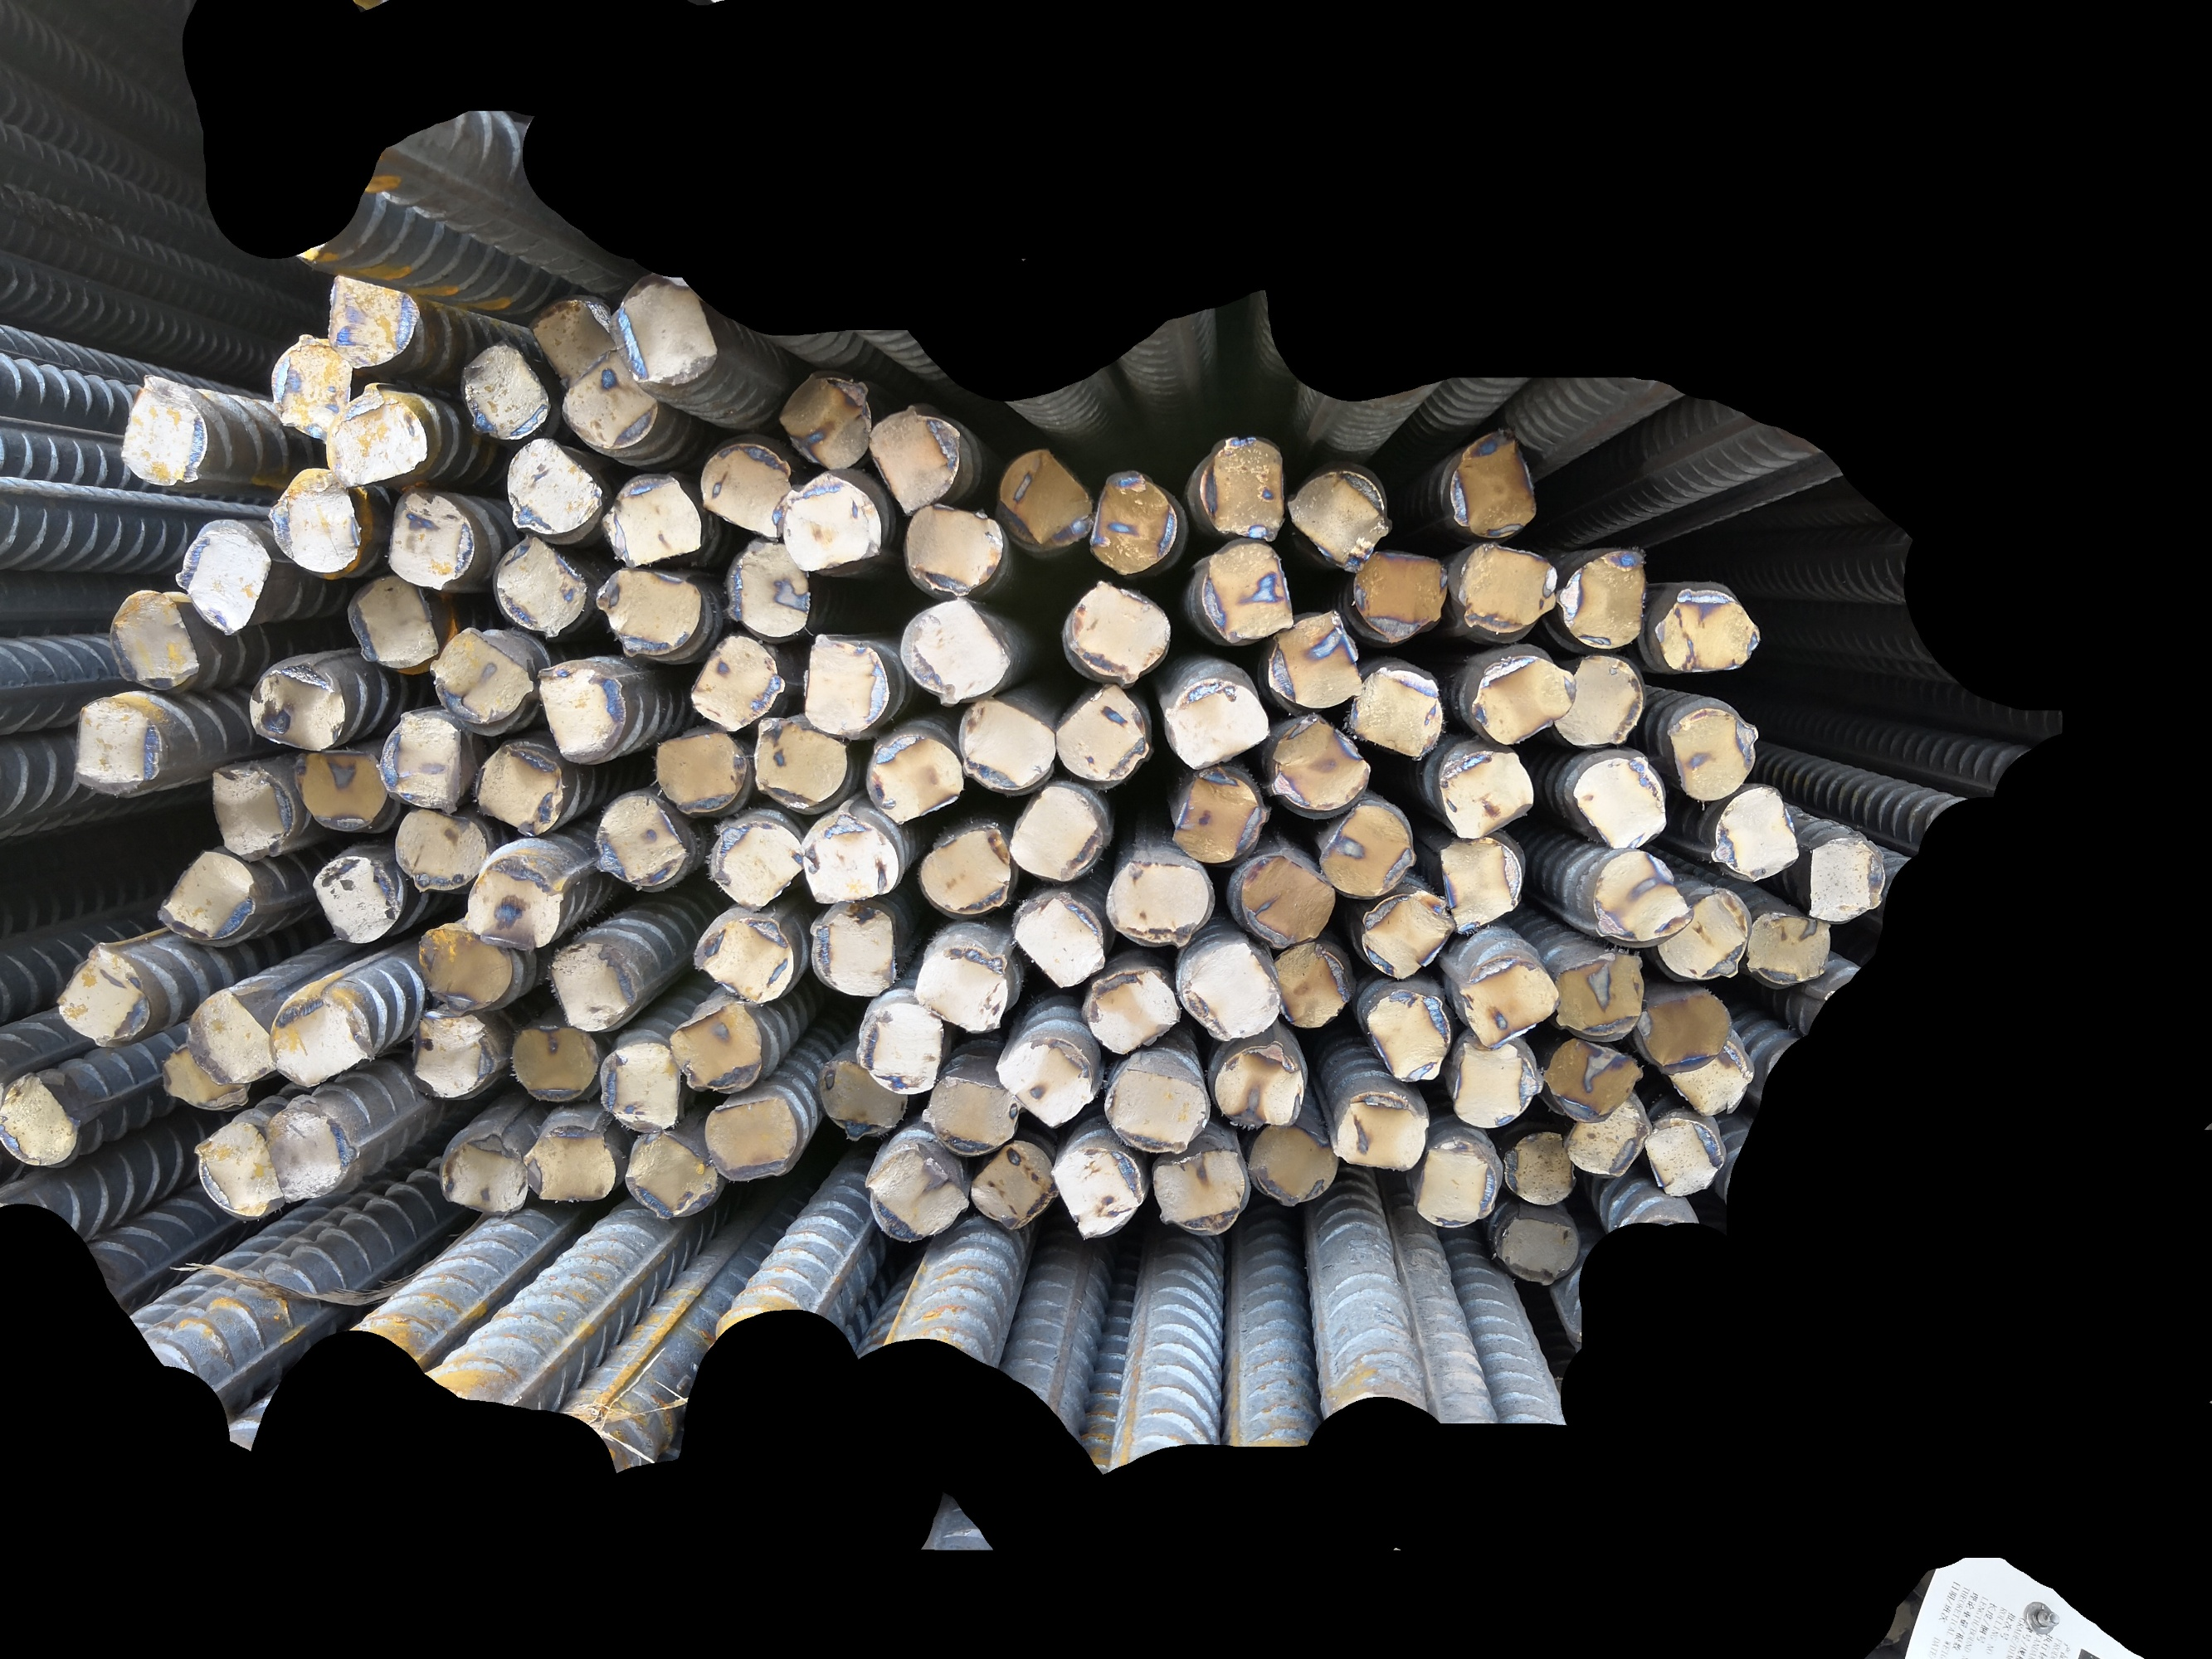rebar: (898, 591, 1016, 709), (171, 514, 275, 645), (605, 275, 723, 389), (1044, 678, 1157, 791), (1281, 462, 1393, 577), (1440, 425, 1546, 544), (859, 1138, 973, 1246), (1095, 850, 1218, 948), (1062, 579, 1175, 685), (1260, 709, 1374, 816), (112, 373, 214, 490), (1171, 939, 1288, 1042), (769, 474, 887, 575), (181, 1117, 289, 1227), (429, 620, 537, 730), (1192, 537, 1300, 645), (1042, 1134, 1149, 1244), (1454, 535, 1564, 641), (553, 350, 666, 453), (1344, 540, 1450, 648), (1157, 673, 1272, 772), (865, 399, 962, 516), (1583, 849, 1700, 946), (683, 627, 790, 734), (750, 708, 856, 814), (596, 465, 704, 570), (1002, 786, 1112, 889), (594, 563, 708, 662), (380, 479, 478, 594), (1096, 1061, 1213, 1157), (1194, 430, 1288, 549), (49, 943, 152, 1051), (324, 385, 432, 488), (1429, 742, 1537, 845), (63, 699, 173, 800), (1443, 1028, 1544, 1138), (492, 528, 589, 641), (1466, 652, 1581, 748), (260, 992, 377, 1086), (103, 587, 207, 692), (460, 850, 565, 955), (1259, 606, 1365, 709), (1353, 983, 1455, 1089), (500, 434, 608, 535), (239, 657, 347, 758), (371, 711, 471, 821), (947, 695, 1056, 795), (268, 465, 366, 577), (1346, 655, 1443, 767), (1654, 580, 1766, 678), (1558, 538, 1652, 653), (1163, 762, 1267, 864), (340, 572, 446, 673), (861, 727, 967, 828), (1567, 753, 1673, 854), (267, 328, 357, 446), (777, 364, 877, 472), (1550, 645, 1647, 755), (999, 439, 1095, 551), (256, 1105, 361, 1206), (903, 498, 1004, 603), (1313, 802, 1417, 903), (1006, 890, 1112, 990), (1431, 831, 1529, 939), (146, 847, 256, 943), (282, 742, 392, 838), (992, 1032, 1095, 1133), (910, 936, 1011, 1039), (661, 997, 767, 1094), (1665, 697, 1762, 803), (1455, 955, 1564, 1051), (723, 532, 818, 641), (1539, 1032, 1649, 1126), (1088, 465, 1180, 577), (321, 267, 422, 368), (800, 807, 901, 908), (915, 817, 1014, 920), (1703, 782, 1806, 882), (410, 922, 519, 1014), (694, 1094, 807, 1183), (706, 817, 807, 917), (692, 441, 793, 540), (1548, 946, 1651, 1044), (804, 627, 891, 742), (692, 913, 798, 1007), (474, 734, 568, 840), (1145, 1145, 1253, 1237), (176, 990, 277, 1087), (1234, 854, 1339, 948), (387, 802, 493, 894), (622, 1126, 720, 1225), (594, 791, 690, 892), (809, 901, 906, 999), (533, 660, 629, 760), (460, 342, 553, 444), (1354, 889, 1457, 981), (917, 1070, 1023, 1159), (1077, 969, 1185, 1056), (1639, 986, 1738, 1080), (854, 995, 945, 1098), (303, 856, 403, 948), (1557, 1089, 1651, 1185), (202, 765, 295, 863), (812, 1054, 913, 1143), (0, 1063, 84, 1169), (523, 296, 617, 390), (967, 1133, 1060, 1229), (1407, 1138, 1499, 1234), (1658, 889, 1750, 985), (432, 1127, 530, 1218), (542, 941, 640, 1032), (1330, 1087, 1429, 1176), (596, 1039, 683, 1140), (1210, 1044, 1311, 1131), (1245, 1117, 1339, 1209), (521, 1121, 621, 1208), (404, 1004, 488, 1105), (650, 728, 746, 816), (1262, 941, 1353, 1032), (1802, 831, 1890, 925), (504, 1023, 601, 1107), (1665, 1037, 1757, 1124), (155, 1033, 251, 1117), (1745, 901, 1835, 988), (1494, 1206, 1583, 1288), (1639, 1117, 1726, 1197), (1497, 1126, 1581, 1208)
